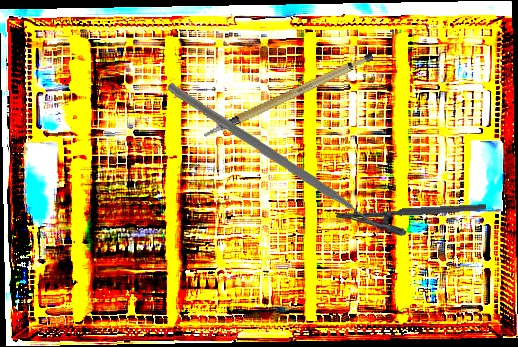Chopper: (162, 82, 386, 249)
Needle Holder: (335, 203, 488, 240)
Scalpel Handle: (194, 49, 382, 139)
